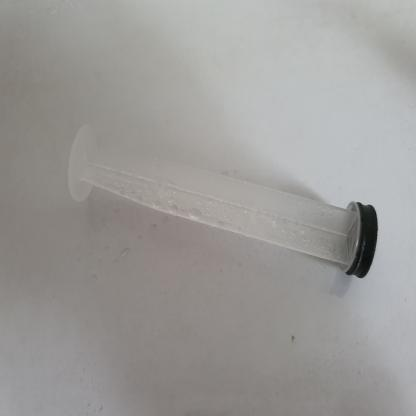wet: (73, 127, 376, 276)
